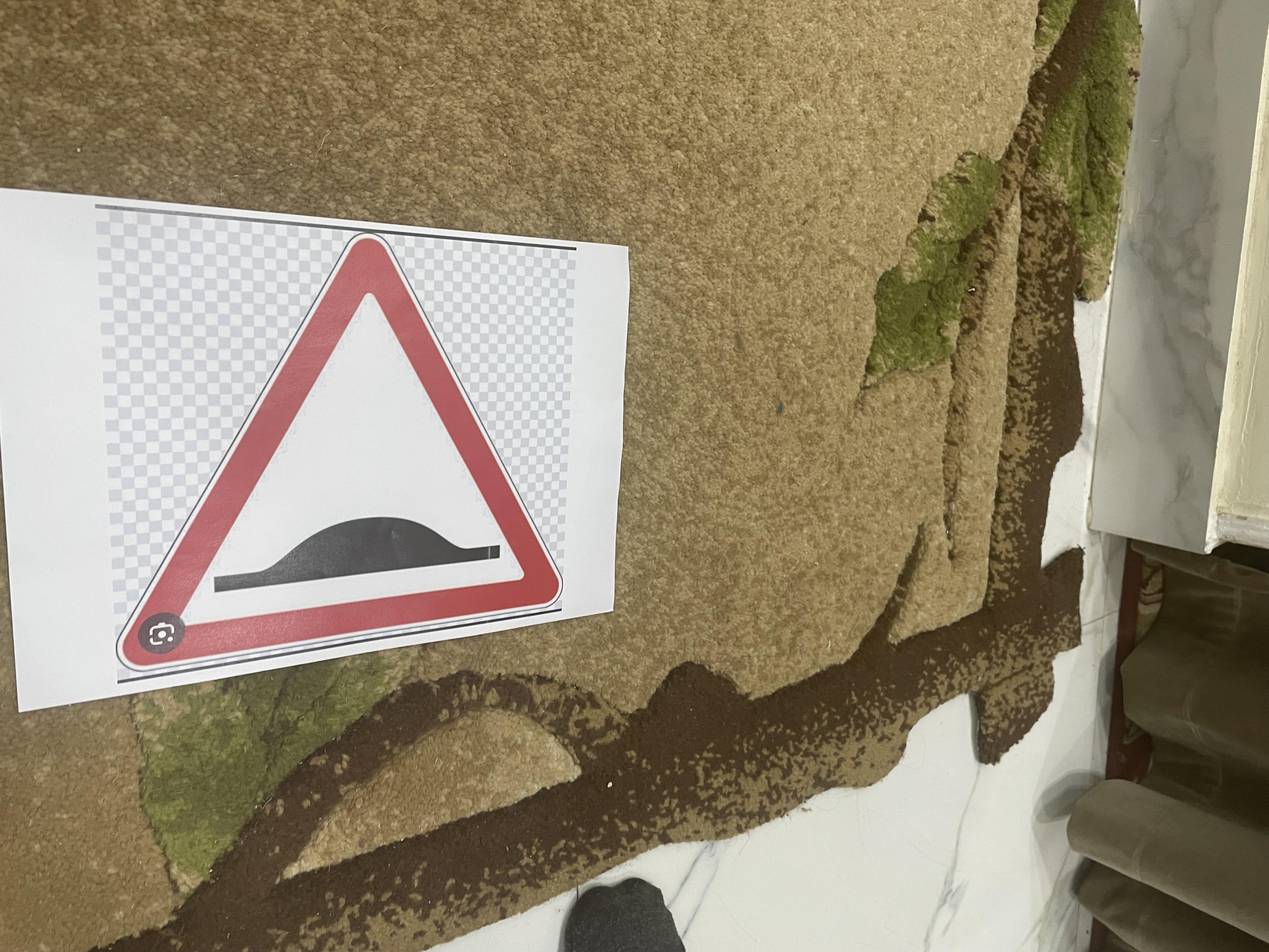Hump: (314, 522, 886, 870)
